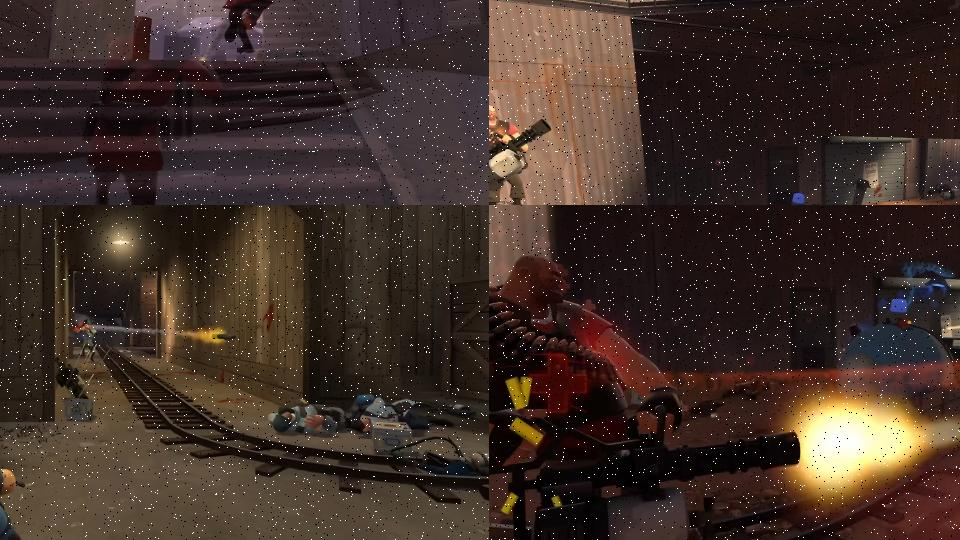Enemy: (489, 250, 803, 540), (489, 98, 552, 205), (215, 0, 292, 54), (346, 395, 454, 431), (268, 399, 353, 435), (77, 321, 96, 362)
